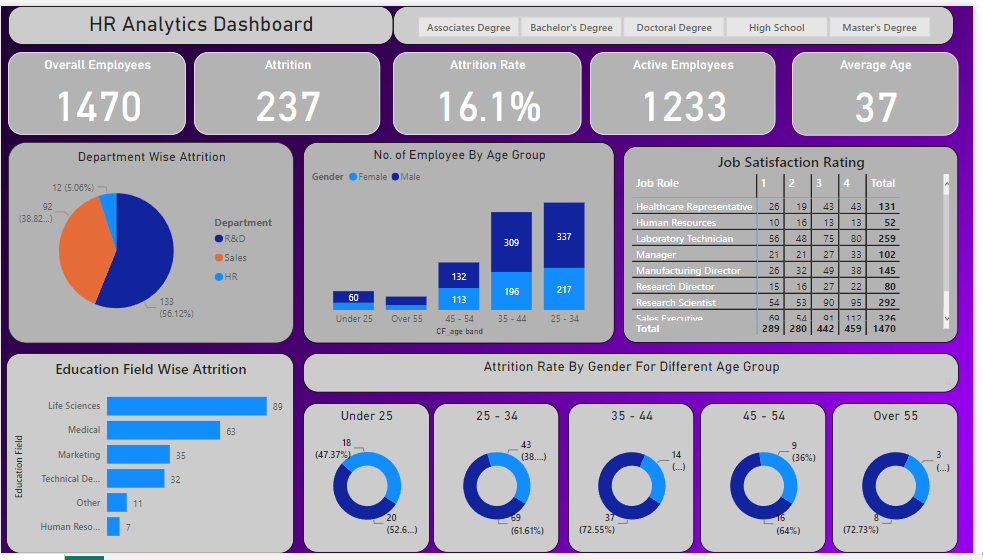

The dashboard page shown, as its layout file describes it:
{"tool":"powerbi","page":{"name":"Page 1","canvas":[1280,720],"ordinal":0},"visuals":[{"type":"card","title":"Overall Employees","fields":{"Values":["Sum(HR data.Employee Count)"]},"box":[9.9,60.6,234,108.5],"z":0},{"type":"card","title":"Attrition","fields":{"Values":["Sum(HR data.Attrition Count)"]},"box":[253.7,60.6,245.3,108.5],"z":1},{"type":"card","title":"Attrition Rate","fields":{"Values":["HR data.Attrition Rate"]},"box":[515.9,60.6,248.1,108.5],"z":2},{"type":"card","title":"Active Employees","fields":{"Values":["HR data.Active Employees"]},"box":[775.3,60.6,243.9,108.5],"z":3},{"type":"card","title":"Average Age","fields":{"Values":["Avg(HR data.Age)"]},"box":[1040.4,60.6,218.5,110],"z":4},{"type":"pieChart","title":"Department Wise Attrition ","fields":{"Category":["HR data.Department"],"Y":["Sum(HR data.Attrition Count)"]},"box":[9.9,179,376.4,265],"z":5},{"type":"columnChart","title":"No. of Employee By Age Group","fields":{"Category":["HR data.CF_age band"],"Y":["Sum(HR data.Employee Count)"],"Series":["HR data.Gender"]},"box":[397.5,179,410.2,265],"z":6},{"type":"pivotTable","title":"Job Satisfaction Rating","fields":{"Rows":["HR data.Job Role"],"Columns":["HR data.Job Satisfaction"],"Values":["Sum(HR data.Employee Count)"]},"box":[819,184.7,441.2,259.4],"z":7},{"type":"barChart","title":"Education Field Wise Attrition","fields":{"Category":["HR data.Education Field"],"Y":["Sum(HR data.Attrition Count)"]},"box":[7,456.7,379.2,263.6],"z":8},{"type":"donutChart","title":"Under 25","fields":{"Category":["HR data.Gender"],"Y":["Sum(HR data.Attrition Count)"],"Series":["HR data.CF_age band"]},"box":[397.8,523,166.5,196.8],"z":9},{"type":"textbox","title":"Attrition Rate By Gender For Different Age Group","box":[397.5,456.7,862.7,52.2],"z":10},{"type":"donutChart","title":"25 - 34","fields":{"Category":["HR data.Gender"],"Y":["Sum(HR data.Attrition Count)"],"Series":["HR data.CF_age band"]},"box":[568.1,523,166.3,197.4],"z":11},{"type":"donutChart","title":"35 - 44","fields":{"Category":["HR data.Gender"],"Y":["Sum(HR data.Attrition Count)"],"Series":["HR data.CF_age band"]},"box":[745.7,523,166.3,197.4],"z":12},{"type":"donutChart","title":"45 - 54","fields":{"Category":["HR data.Gender"],"Y":["Sum(HR data.Attrition Count)"],"Series":["HR data.CF_age band"]},"box":[919.1,523,166.3,197.4],"z":13},{"type":"donutChart","title":"Over 55","fields":{"Category":["HR data.Gender"],"Y":["Sum(HR data.Attrition Count)"],"Series":["HR data.CF_age band"]},"box":[1093.9,523,166.3,197.4],"z":14},{"type":"textbox","title":"HR Analytics Dashboard","box":[9.2,0,506.6,51.3],"z":15},{"type":"slicer","fields":{"Values":["HR data.Education"]},"box":[516.1,0,737.7,50.9],"z":16}]}

Visuals, with their boxes in screenshot pixels (x1, y1, x2, y2), scaled from the page's 1280x720 canvas onto the 983x560 screenshot:
"Overall Employees" card: {"x1": 8, "y1": 47, "x2": 187, "y2": 132}
"Attrition" card: {"x1": 195, "y1": 47, "x2": 383, "y2": 132}
"Attrition Rate" card: {"x1": 396, "y1": 47, "x2": 587, "y2": 132}
"Active Employees" card: {"x1": 595, "y1": 47, "x2": 783, "y2": 132}
"Average Age" card: {"x1": 799, "y1": 47, "x2": 967, "y2": 133}
"Department Wise Attrition " pieChart: {"x1": 8, "y1": 139, "x2": 297, "y2": 345}
"No. of Employee By Age Group" columnChart: {"x1": 305, "y1": 139, "x2": 620, "y2": 345}
"Job Satisfaction Rating" pivotTable: {"x1": 629, "y1": 144, "x2": 968, "y2": 345}
"Education Field Wise Attrition" barChart: {"x1": 5, "y1": 355, "x2": 297, "y2": 559}
"Under 25" donutChart: {"x1": 305, "y1": 407, "x2": 433, "y2": 559}
"Attrition Rate By Gender For Different Age Group" textbox: {"x1": 305, "y1": 355, "x2": 968, "y2": 396}
"25 - 34" donutChart: {"x1": 436, "y1": 407, "x2": 564, "y2": 559}
"35 - 44" donutChart: {"x1": 573, "y1": 407, "x2": 700, "y2": 559}
"45 - 54" donutChart: {"x1": 706, "y1": 407, "x2": 834, "y2": 559}
"Over 55" donutChart: {"x1": 840, "y1": 407, "x2": 968, "y2": 559}
"HR Analytics Dashboard" textbox: {"x1": 7, "y1": 0, "x2": 396, "y2": 40}
slicer - HR data.Education: {"x1": 396, "y1": 0, "x2": 963, "y2": 40}
